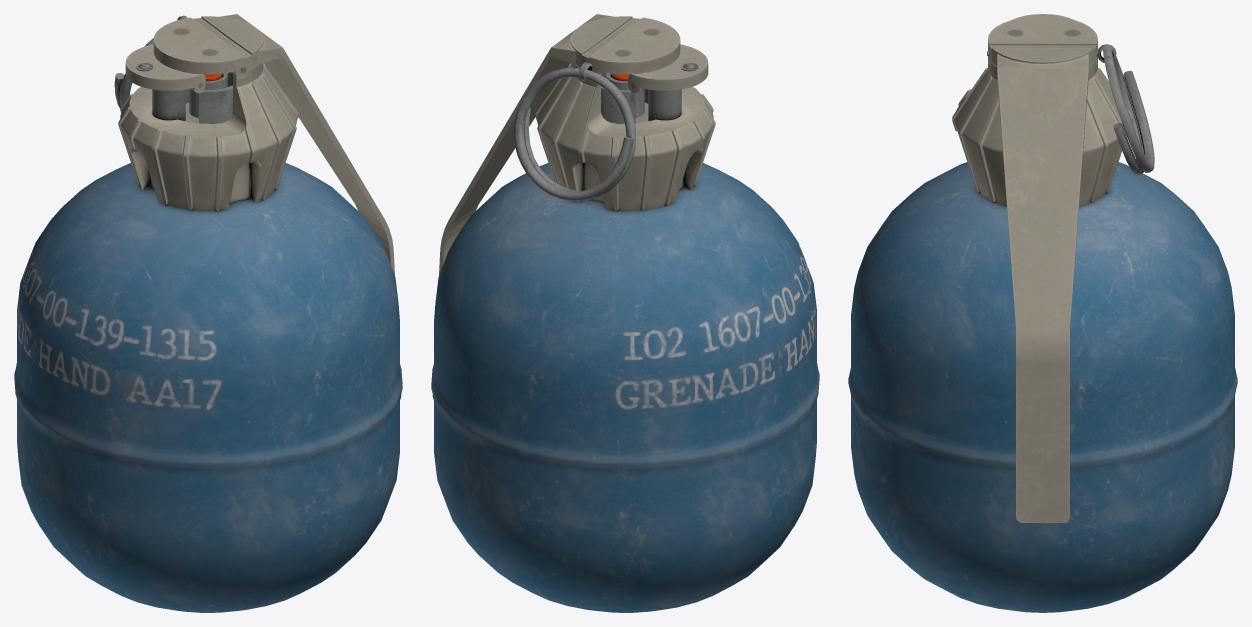
The model's file is HegPickup.fbx.
3 views of the same model, side by side, from view 1: azimuth 30°, elevation 25°; view 2: azimuth 150°, elevation 25°; view 3: azimuth 270°, elevation 25° (orthographic).
Visible parts, largest first — view 1: Mesh_Grenade_LOD0; view 2: Mesh_Grenade_LOD0; view 3: Mesh_Grenade_LOD0.
Boxes of the visible parts, x1,y1,x2,y2 form: Mesh_Grenade_LOD0: [14, 14, 402, 612]; Mesh_Grenade_LOD0: [431, 14, 819, 612]; Mesh_Grenade_LOD0: [848, 14, 1237, 612].
Size of what is drawn, in the model's own units: 0.1351 by 0.2029 by 0.1308.
Materials: 1 (1 with a texture image).
